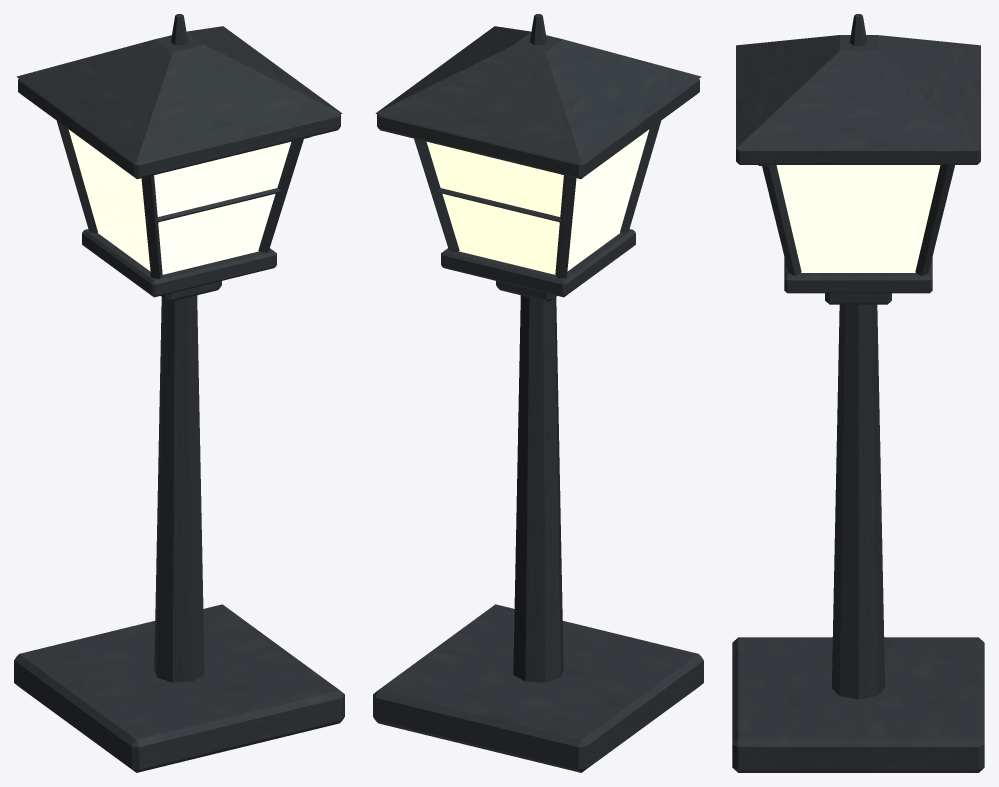
Rendered from lamp_stand.glb.
3 views of the same model, side by side, from view 1: azimuth 30°, elevation 25°; view 2: azimuth 150°, elevation 25°; view 3: azimuth 270°, elevation 25° (orthographic). The views are drawn at different scales.
Parts seen in each view (by area): view 1: outdoor_lamp_stand; view 2: outdoor_lamp_stand; view 3: outdoor_lamp_stand.
Boxes of the visible parts, <box> form: outdoor_lamp_stand: <box>14,14,344,772</box>; outdoor_lamp_stand: <box>373,14,703,772</box>; outdoor_lamp_stand: <box>732,14,984,772</box>.
Size of the model in its own units: 0.34 by 1.05 by 0.34.
Materials: 2 (2 with a texture image).
